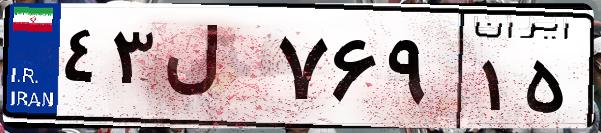1: (475, 38, 525, 113)
3: (110, 28, 158, 98)
4: (57, 26, 110, 100)
5: (525, 38, 570, 115)
6: (330, 28, 385, 110)
7: (270, 28, 330, 110)
9: (385, 28, 445, 110)
ل: (158, 20, 270, 120)
